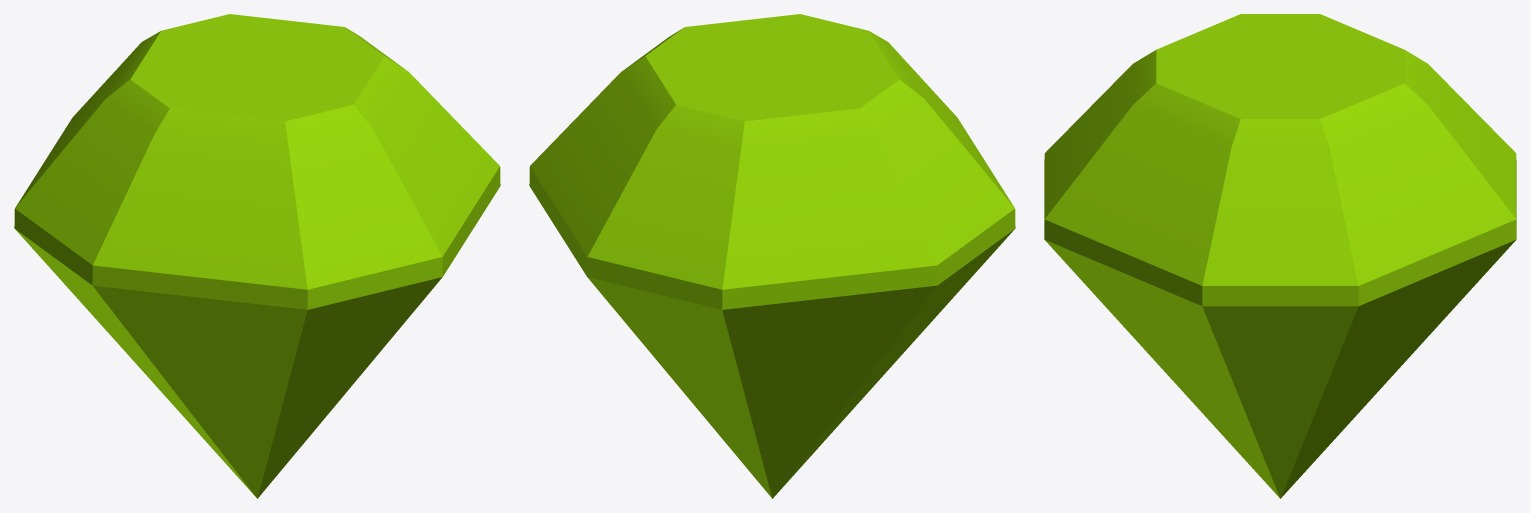
Rendered from gem.glb.
3 renders of one model, left to right at view 1: azimuth 30°, elevation 25°; view 2: azimuth 150°, elevation 25°; view 3: azimuth 270°, elevation 25°, orthographic.
Visible parts, largest first — view 1: UI_Gem_Green; view 2: UI_Gem_Green; view 3: UI_Gem_Green.
Boxes of the visible parts, x1,y1,x2,y2 form: UI_Gem_Green: (14, 14, 500, 498); UI_Gem_Green: (529, 14, 1015, 498); UI_Gem_Green: (1044, 14, 1516, 498).
Size of the model in its own units: 0.5602 by 0.5657 by 0.5602.
Materials: 1 (1 with a texture image).
